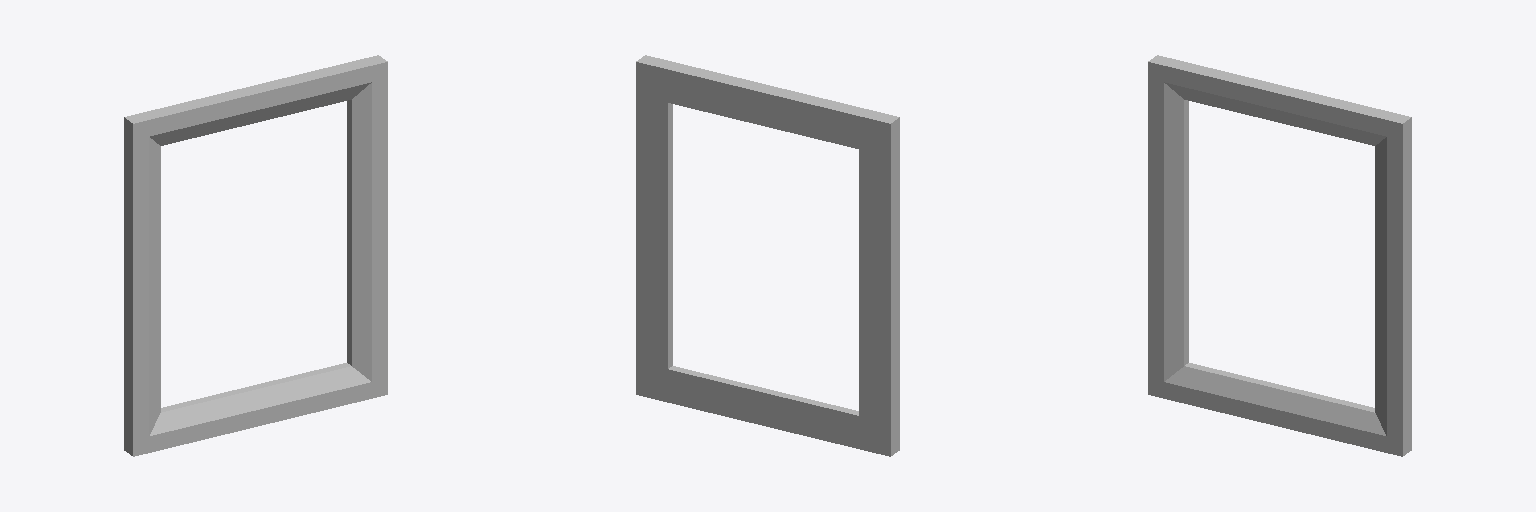
Rendered from uploads_files_1898405_frame.obj.
3 renders of one model, left to right at view 1: azimuth 30°, elevation 25°; view 2: azimuth 150°, elevation 25°; view 3: azimuth 330°, elevation 25°, orthographic.
Parts seen in each view (by area): view 1: Cube.4; view 2: Cube.4; view 3: Cube.4.
Boxes of the visible parts, x1=… form: Cube.4: x1=124, y1=55, x2=387, y2=456; Cube.4: x1=636, y1=55, x2=899, y2=456; Cube.4: x1=1148, y1=55, x2=1411, y2=456.
Bounding box in the file's own units: 160 × 200 × 10.